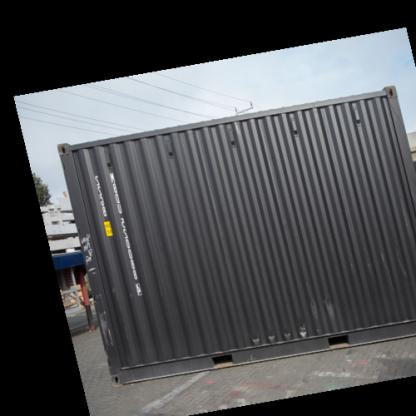Damage: (252, 321, 317, 345), (95, 287, 115, 352), (307, 293, 347, 325)
